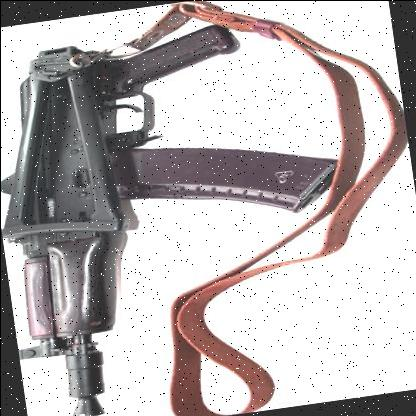rifle: (0, 17, 346, 416)
